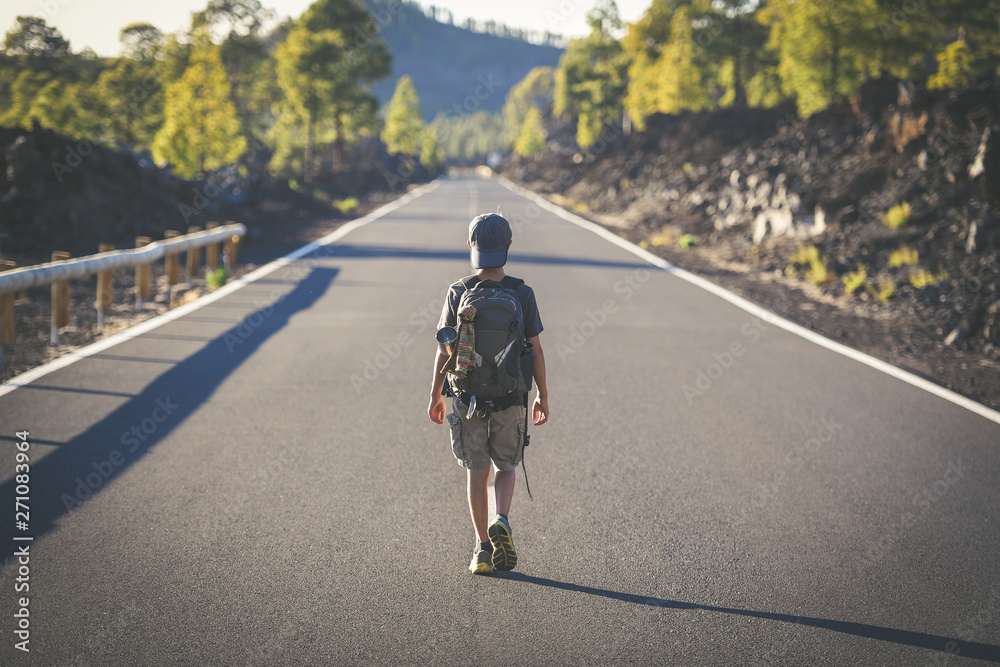person: (422, 205, 554, 583)
